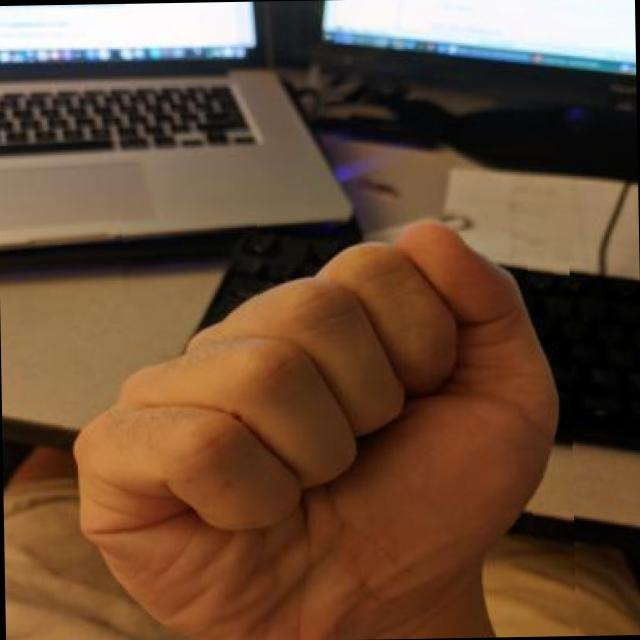A: (53, 205, 575, 640)
